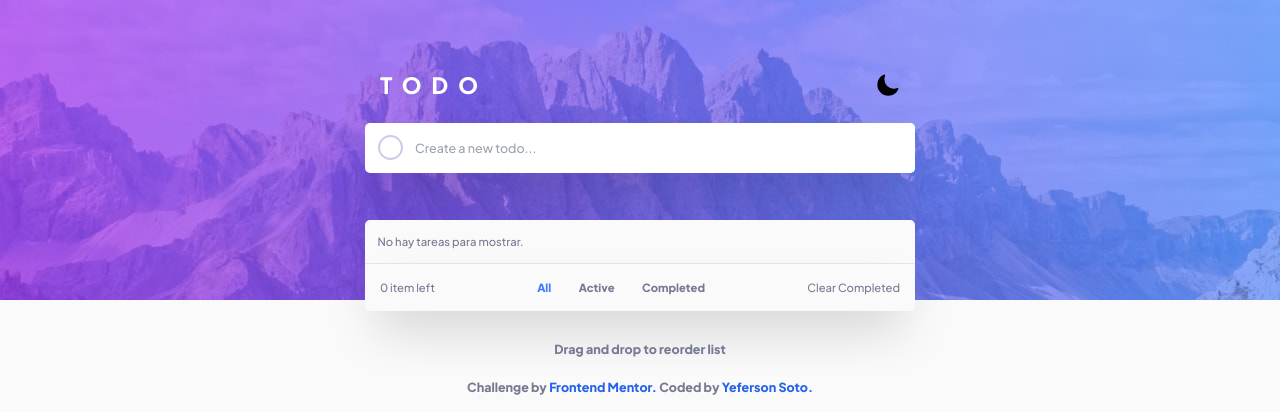
Test: App › crea una tarea y la persiste en el almacenamiento local
Expected: the list item "No hay tareas para mostrar." is shown, [365,220,915,264]
In the field with placeholder "Create a new todo...": (665, 148) [415,122,915,172], type "Nueva tarea"
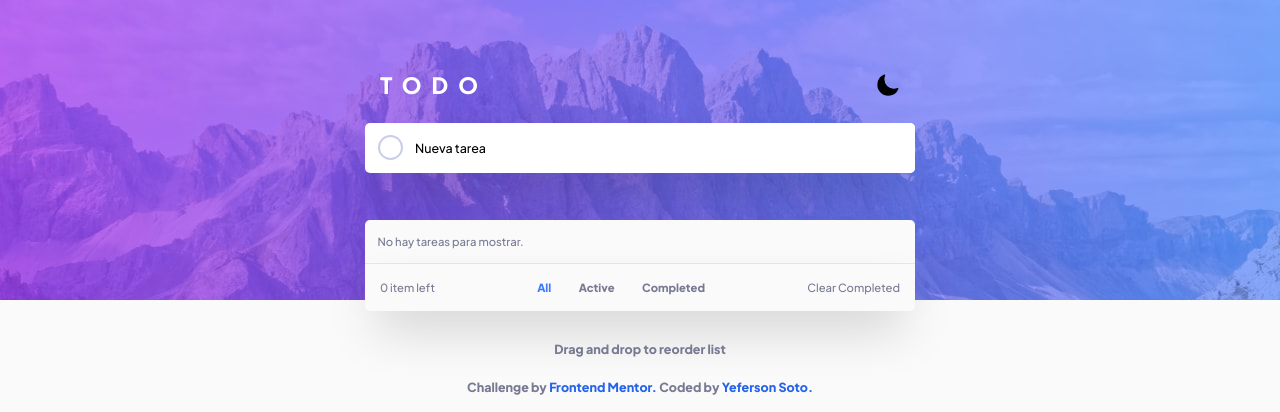
Submit the form with placeholder "Create a new todo...", box [365,122,915,202]
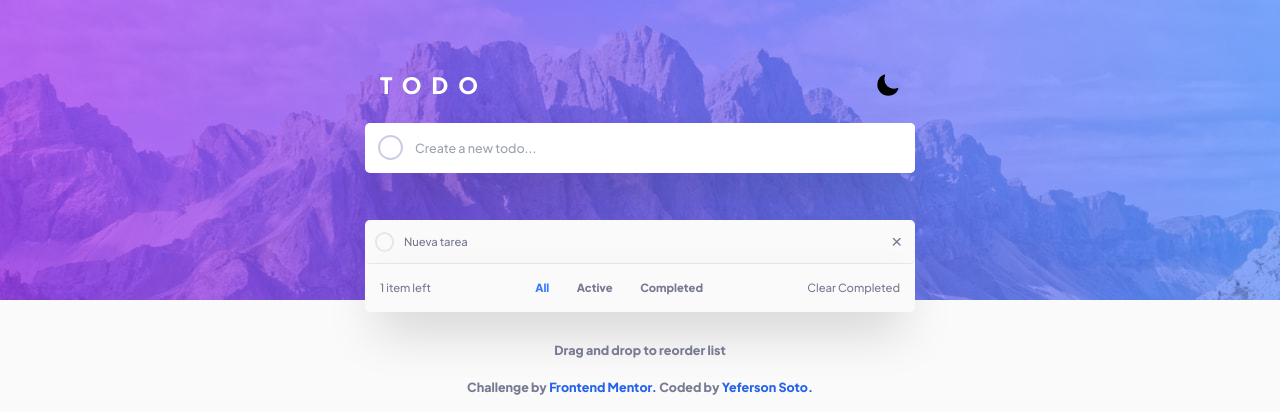
Now the text "Nueva tarea" is shown, box [404,234,468,248]
